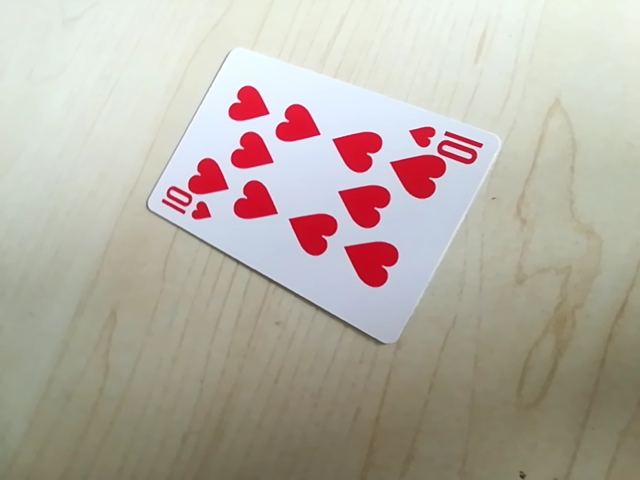hx 10: (405, 124, 493, 159), (155, 192, 214, 226)
